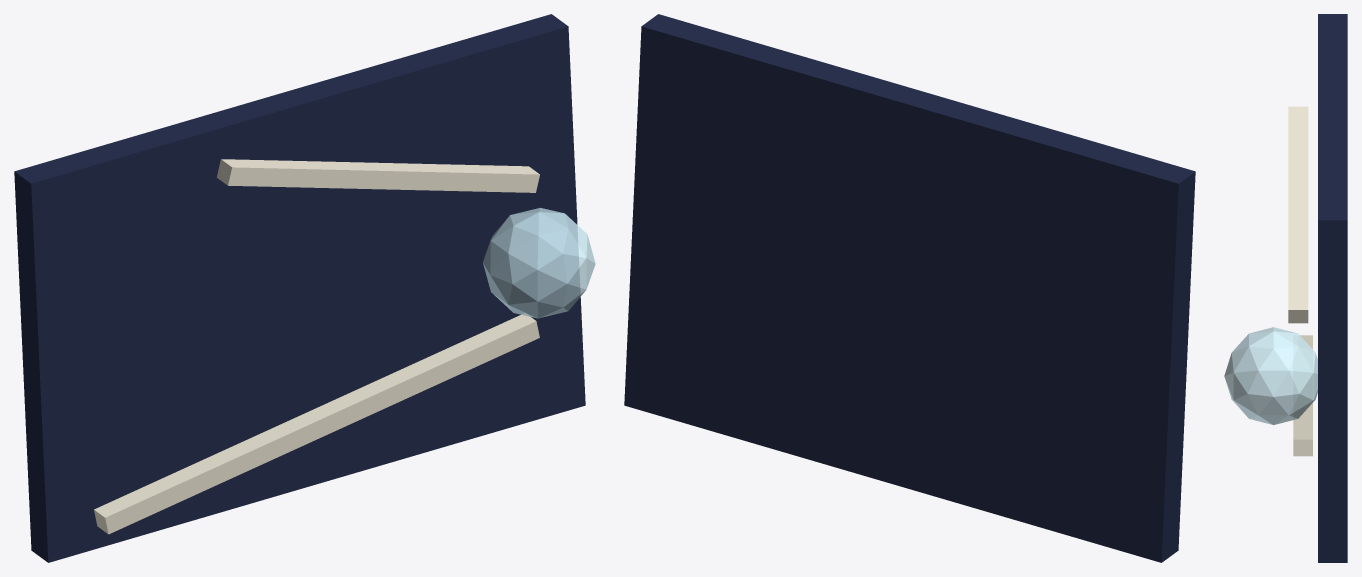
Rendered from 02_world_prop_polish.glb.
3 renders of one model, left to right at view 1: azimuth 30°, elevation 25°; view 2: azimuth 150°, elevation 25°; view 3: azimuth 270°, elevation 25°, orthographic. The views are drawn at different scales.
Visible parts, largest first — view 1: object_overlay_plate, edge_wear_a, glow_socket, edge_wear_b; view 2: object_overlay_plate; view 3: object_overlay_plate, glow_socket, edge_wear_b, edge_wear_a.
Part boxes in pixels (x1=…): object_overlay_plate: x1=14, y1=14, x2=585, y2=562; edge_wear_a: x1=94, y1=314, x2=539, y2=534; glow_socket: x1=483, y1=207, x2=595, y2=318; edge_wear_b: x1=216, y1=159, x2=539, y2=192; object_overlay_plate: x1=624, y1=14, x2=1195, y2=562; object_overlay_plate: x1=1318, y1=14, x2=1347, y2=562; glow_socket: x1=1224, y1=327, x2=1317, y2=425; edge_wear_b: x1=1288, y1=106, x2=1308, y2=323; edge_wear_a: x1=1293, y1=335, x2=1312, y2=456.
Bounding box in the file's own units: 1.13 × 0.8006 × 0.25.
